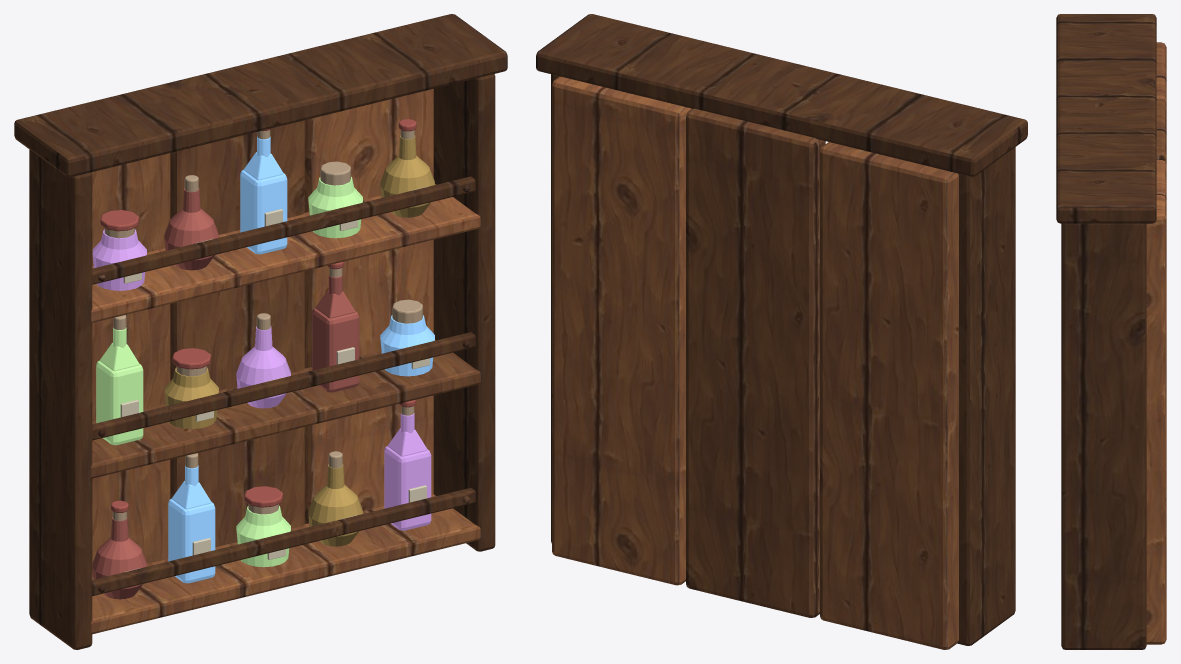
Rendered from hm_potion_rack.glb.
The picture shows the model from 3 angles, left to right: view 1: azimuth 30°, elevation 25°; view 2: azimuth 150°, elevation 25°; view 3: azimuth 270°, elevation 25°; orthographic projection. The views are drawn at different scales.
Parts seen in each view (by area): view 1: model; view 2: model; view 3: model.
Part boxes in pixels (box(x1,y1,x2,y2)): model: box(14, 14, 507, 649); model: box(536, 14, 1027, 649); model: box(1056, 14, 1166, 649).
Bounding box in the file's own units: 0.92 × 0.99 × 0.22.
Materials: 13 (5 with a texture image).
